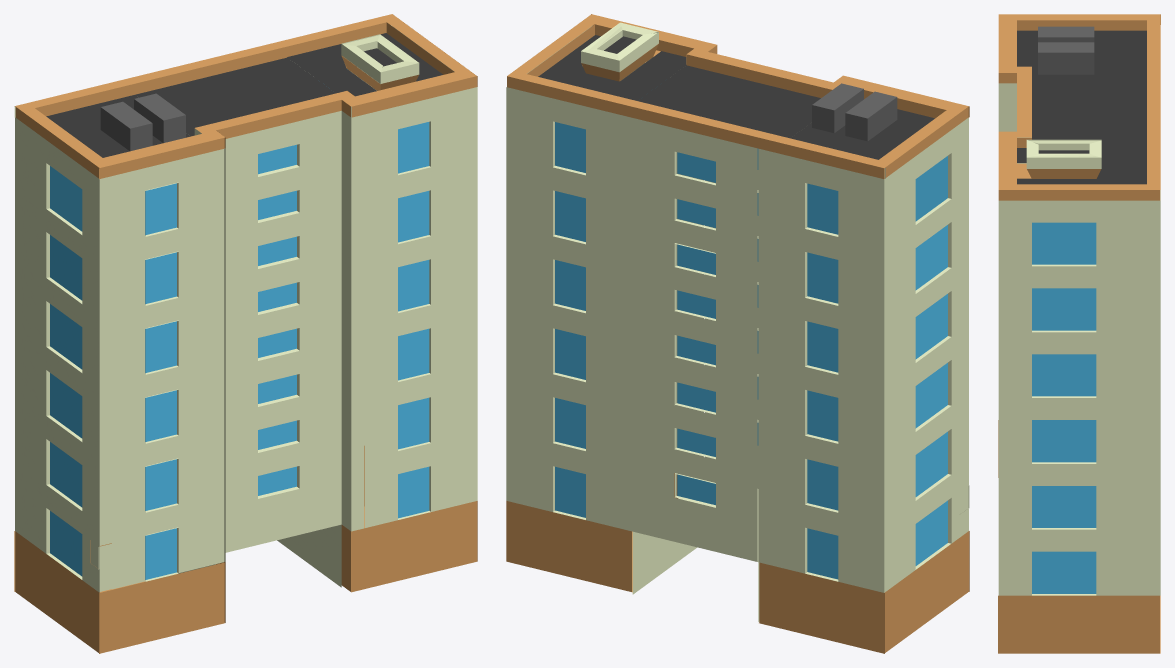
Rendered from apartment.ver5.fbx.
3 renders of one model, left to right at view 1: azimuth 30°, elevation 25°; view 2: azimuth 150°, elevation 25°; view 3: azimuth 270°, elevation 25°, orthographic. The views are drawn at different scales.
Parts seen in each view (by area): view 1: apartmanet, color_orange, glass, top_plane, top_blackTing; view 2: apartmanet, color_orange, glass, top_plane, top_blackTing; view 3: apartmanet, color_orange, glass, top_plane, top_blackTing.
Boxes of the visible parts, x1,y1,x2,y2 form: apartmanet: (14, 25, 477, 592); color_orange: (14, 14, 477, 653); glass: (50, 69, 429, 579); top_plane: (46, 33, 442, 157); top_blackTing: (100, 93, 185, 151); apartmanet: (506, 22, 969, 621); color_orange: (506, 14, 969, 653); glass: (555, 64, 947, 579); top_plane: (538, 35, 934, 159); top_blackTing: (812, 83, 897, 141); apartmanet: (998, 83, 1160, 595); color_orange: (998, 14, 1160, 653); glass: (1032, 222, 1096, 593); top_plane: (1017, 30, 1146, 184); top_blackTing: (1038, 26, 1094, 74).
Size of the model in its own units: 911 by 1151 by 355.
